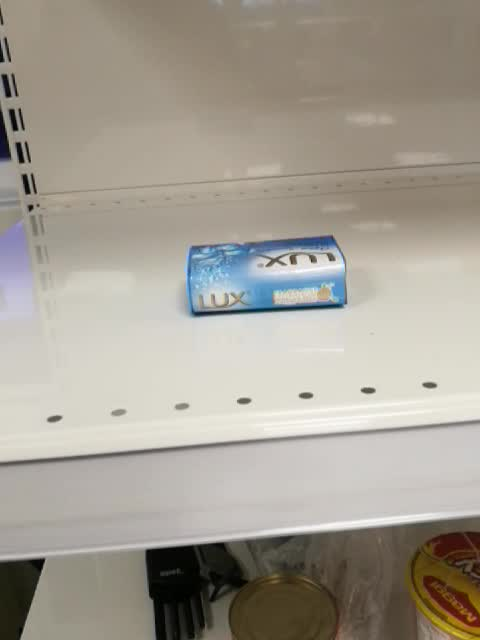soap: (184, 229, 349, 320)
